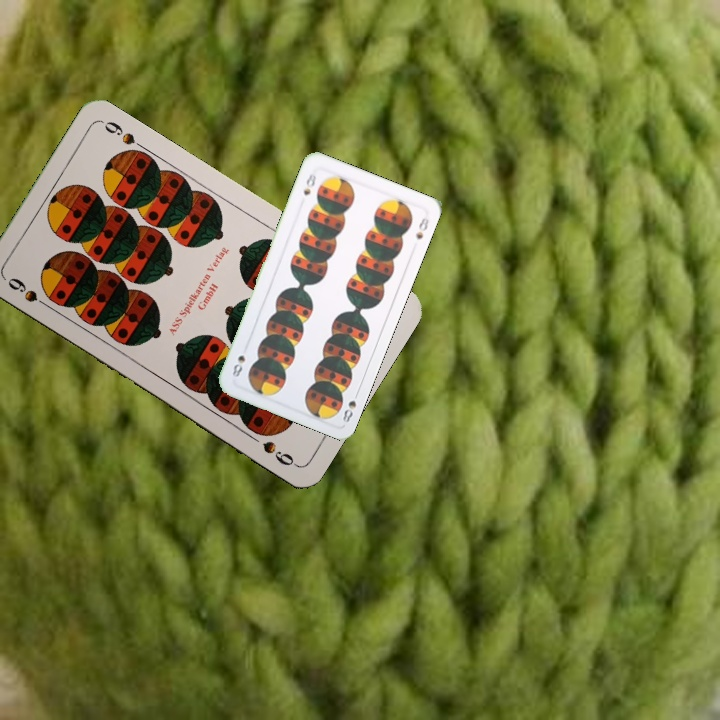S8: (338, 386, 362, 425), (299, 168, 319, 198)
S9: (3, 273, 55, 312)
